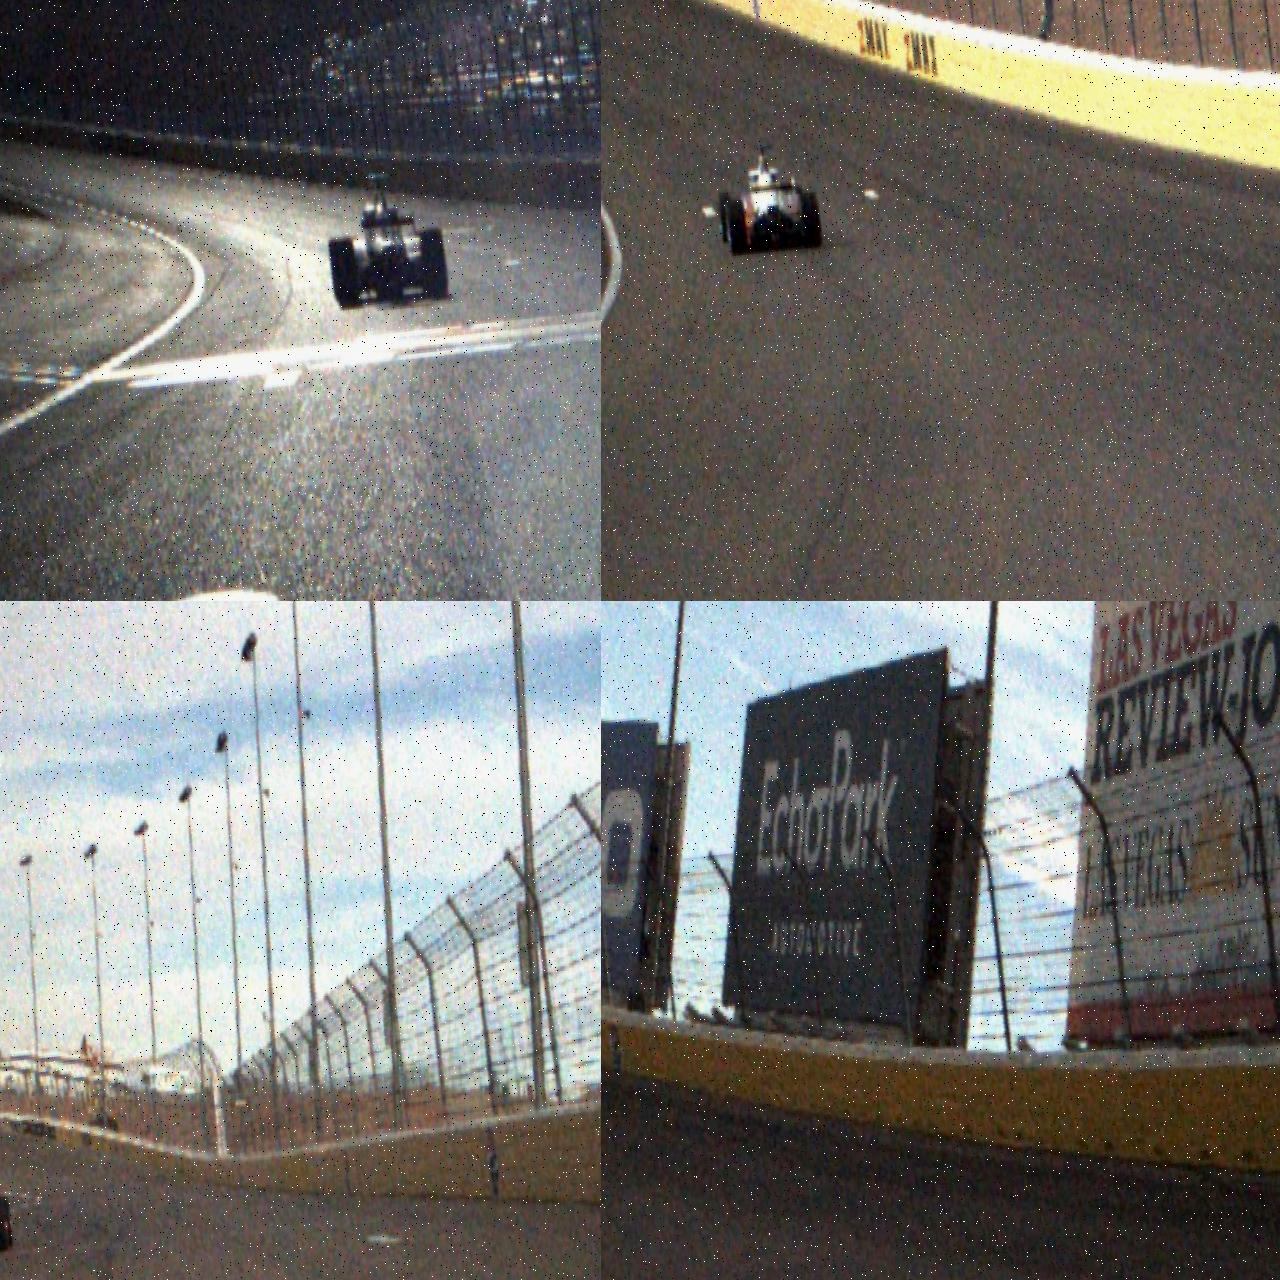AV: (321, 166, 450, 312), (712, 139, 824, 259)
Wheel: (420, 227, 450, 301), (332, 238, 361, 309), (726, 198, 749, 258), (802, 191, 824, 250), (716, 189, 735, 245), (0, 1194, 11, 1253)
